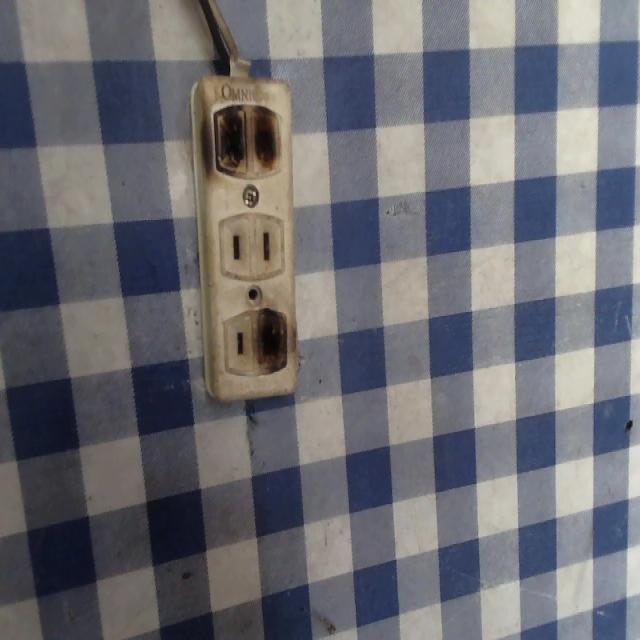-: (212, 97, 288, 187), (252, 305, 297, 379)
